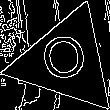O_S: (39, 32, 93, 90)
